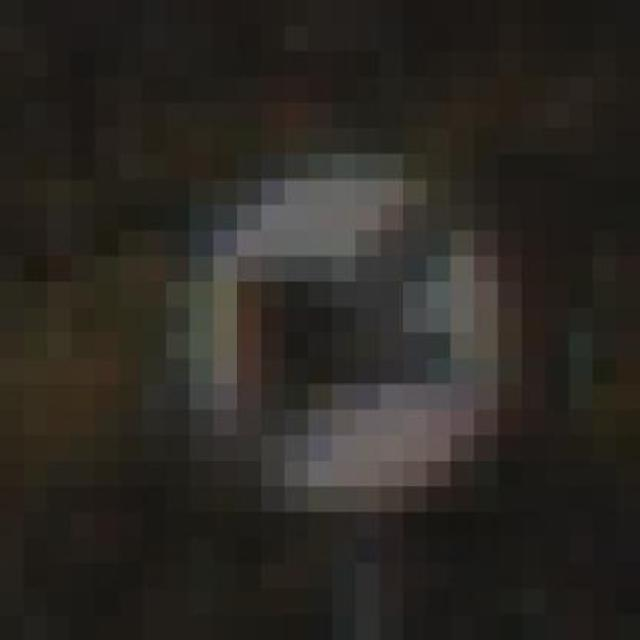Overtaking by trucks is prohibited: (142, 102, 569, 564)
